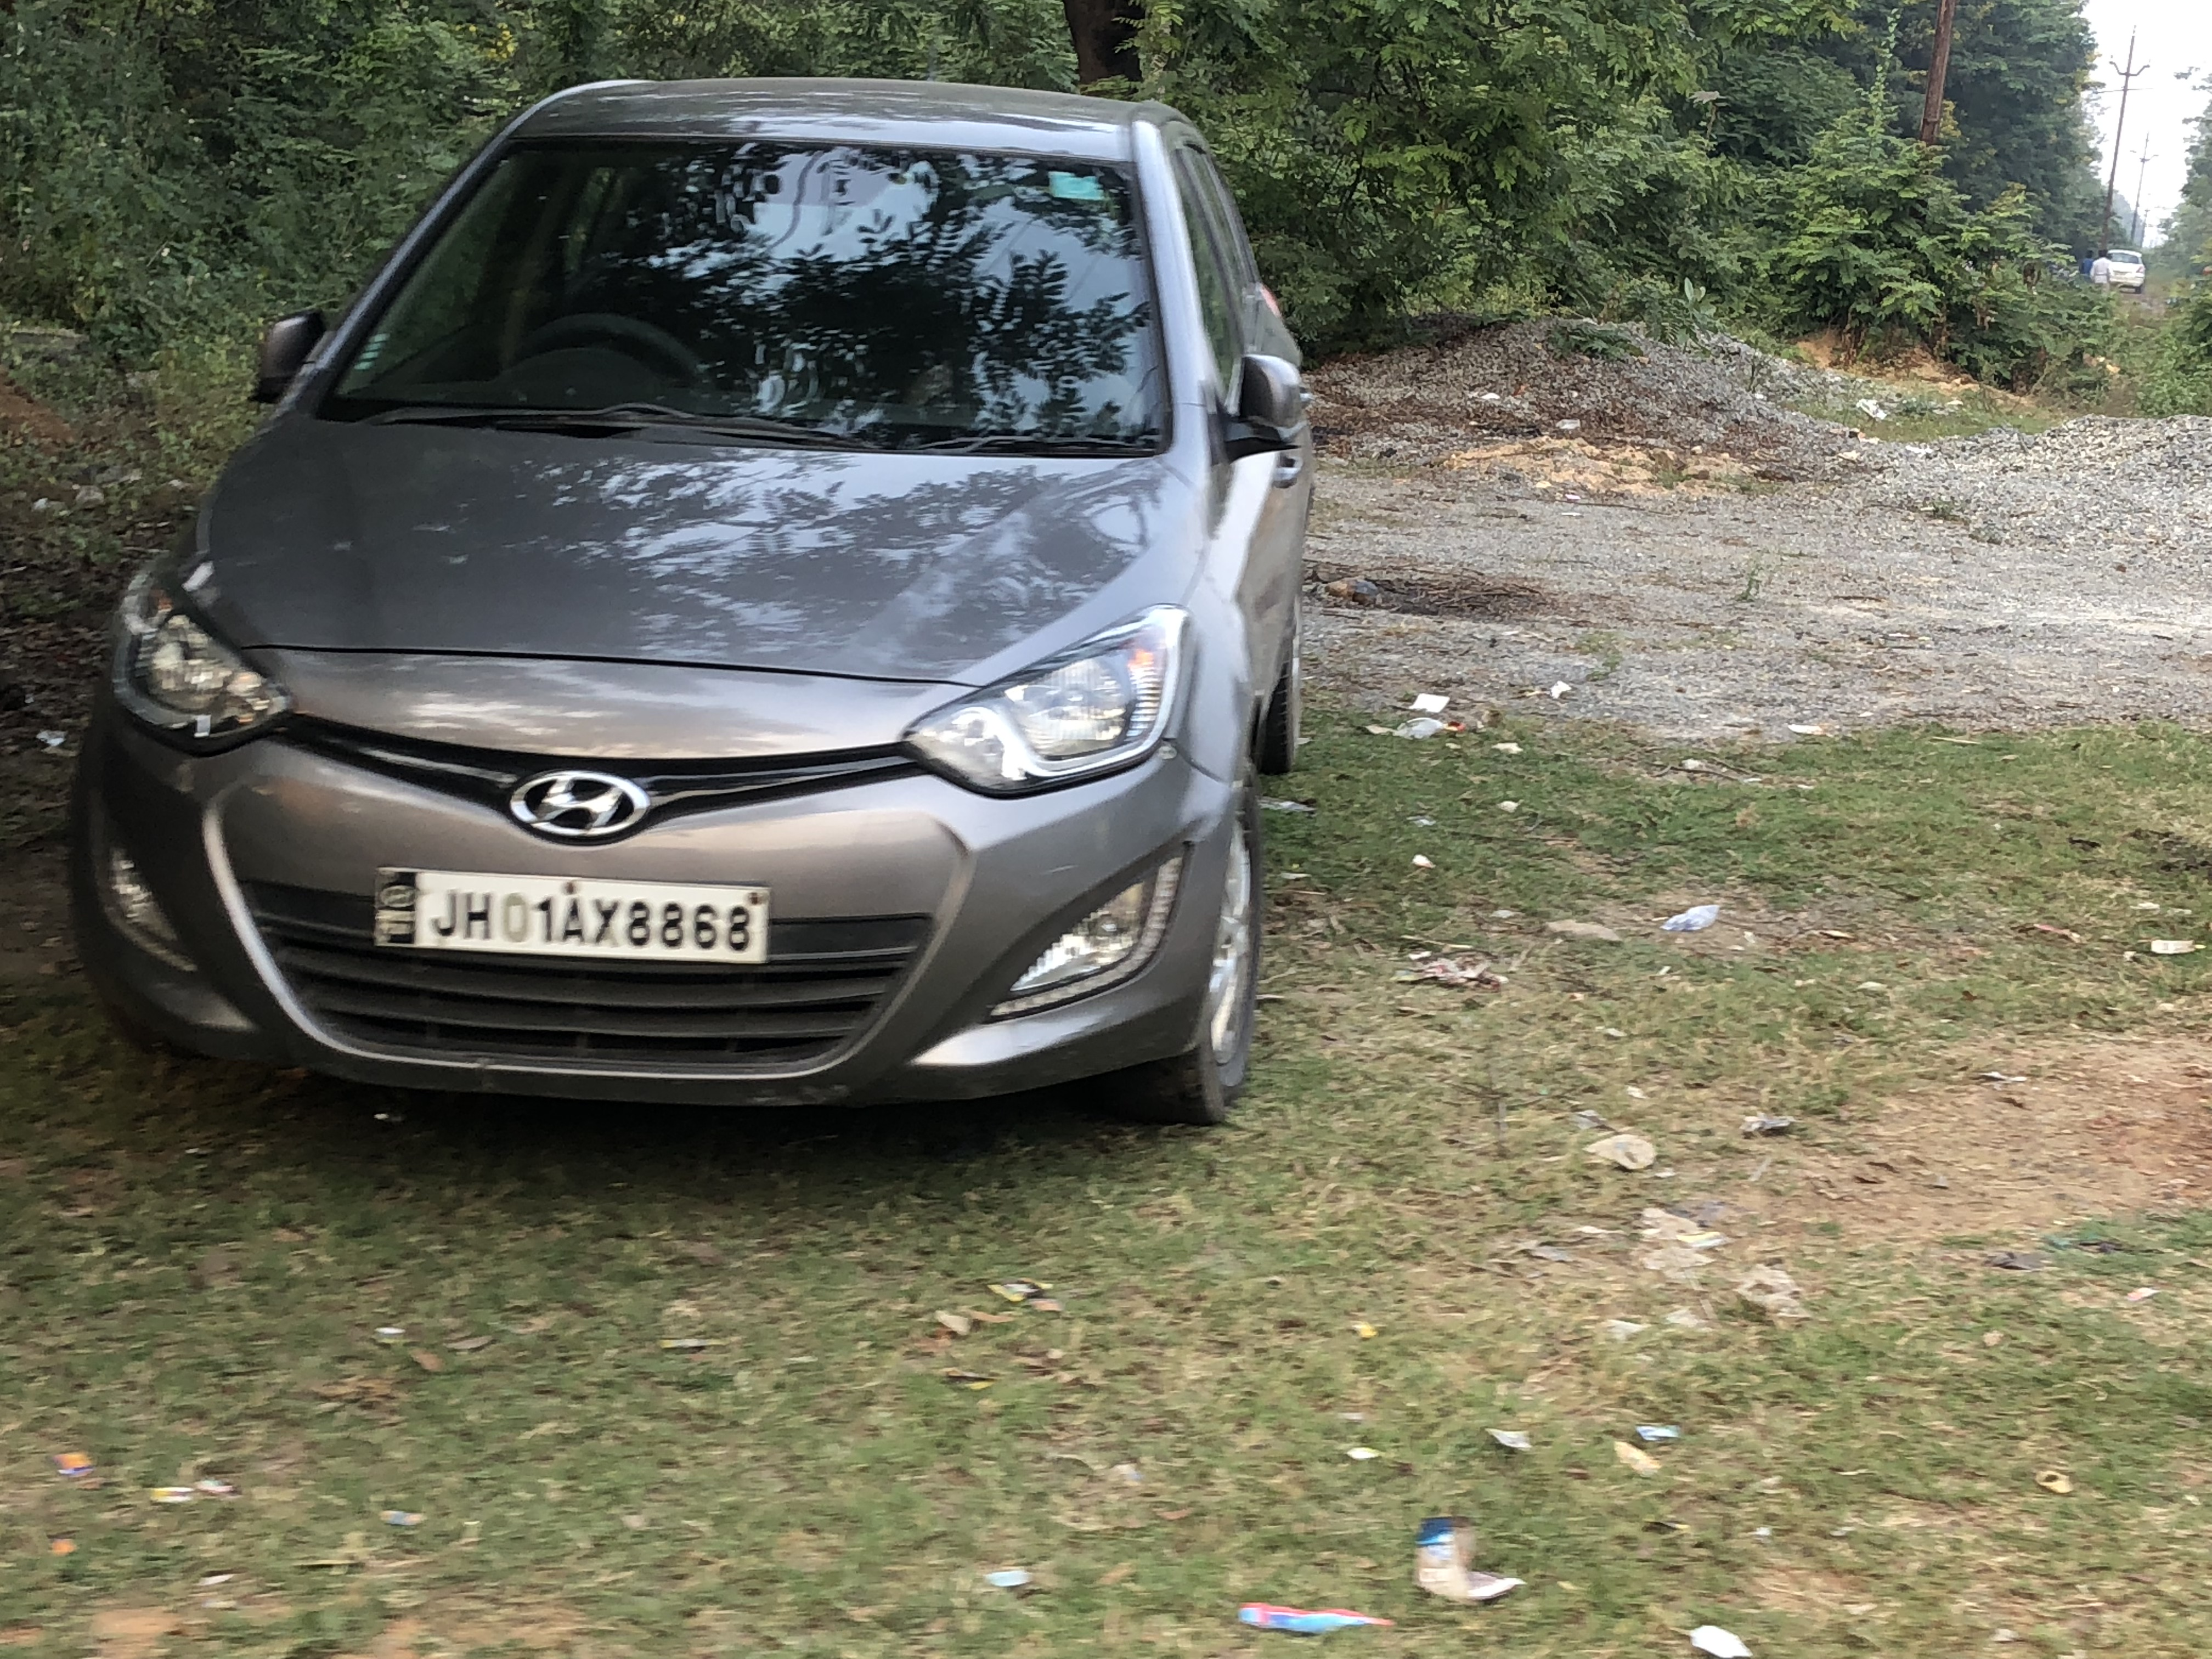licenseplate: (362, 861, 771, 984)
